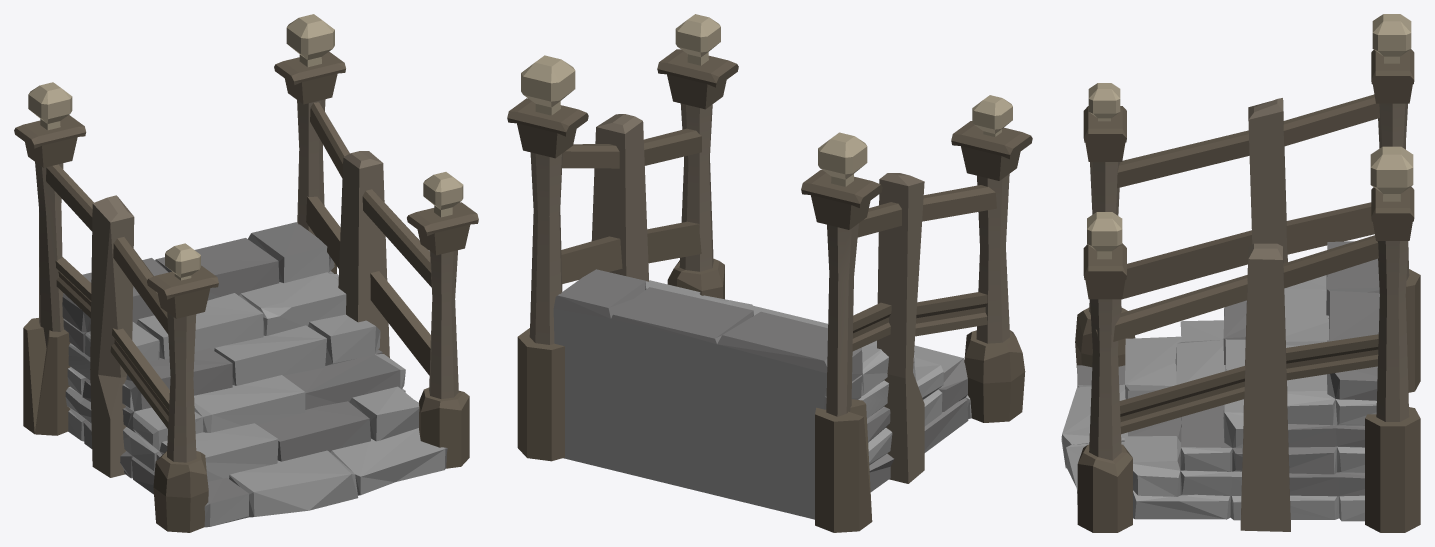
The model's file is _STAIRS_06_1.glb.
The picture shows the model from 3 angles, left to right: view 1: azimuth 30°, elevation 25°; view 2: azimuth 150°, elevation 25°; view 3: azimuth 270°, elevation 25°; orthographic projection. The views are drawn at different scales.
Visible parts, largest first — view 1: STAIRS_06_1; view 2: STAIRS_06_1; view 3: STAIRS_06_1.
Part boxes in pixels (x1=…): STAIRS_06_1: x1=14, y1=14, x2=478, y2=532; STAIRS_06_1: x1=507, y1=14, x2=1032, y2=532; STAIRS_06_1: x1=1061, y1=14, x2=1420, y2=532.
Bounding box in the file's own units: 1.23 × 1.29 × 1.13.
Materials: 1 (1 with a texture image).
